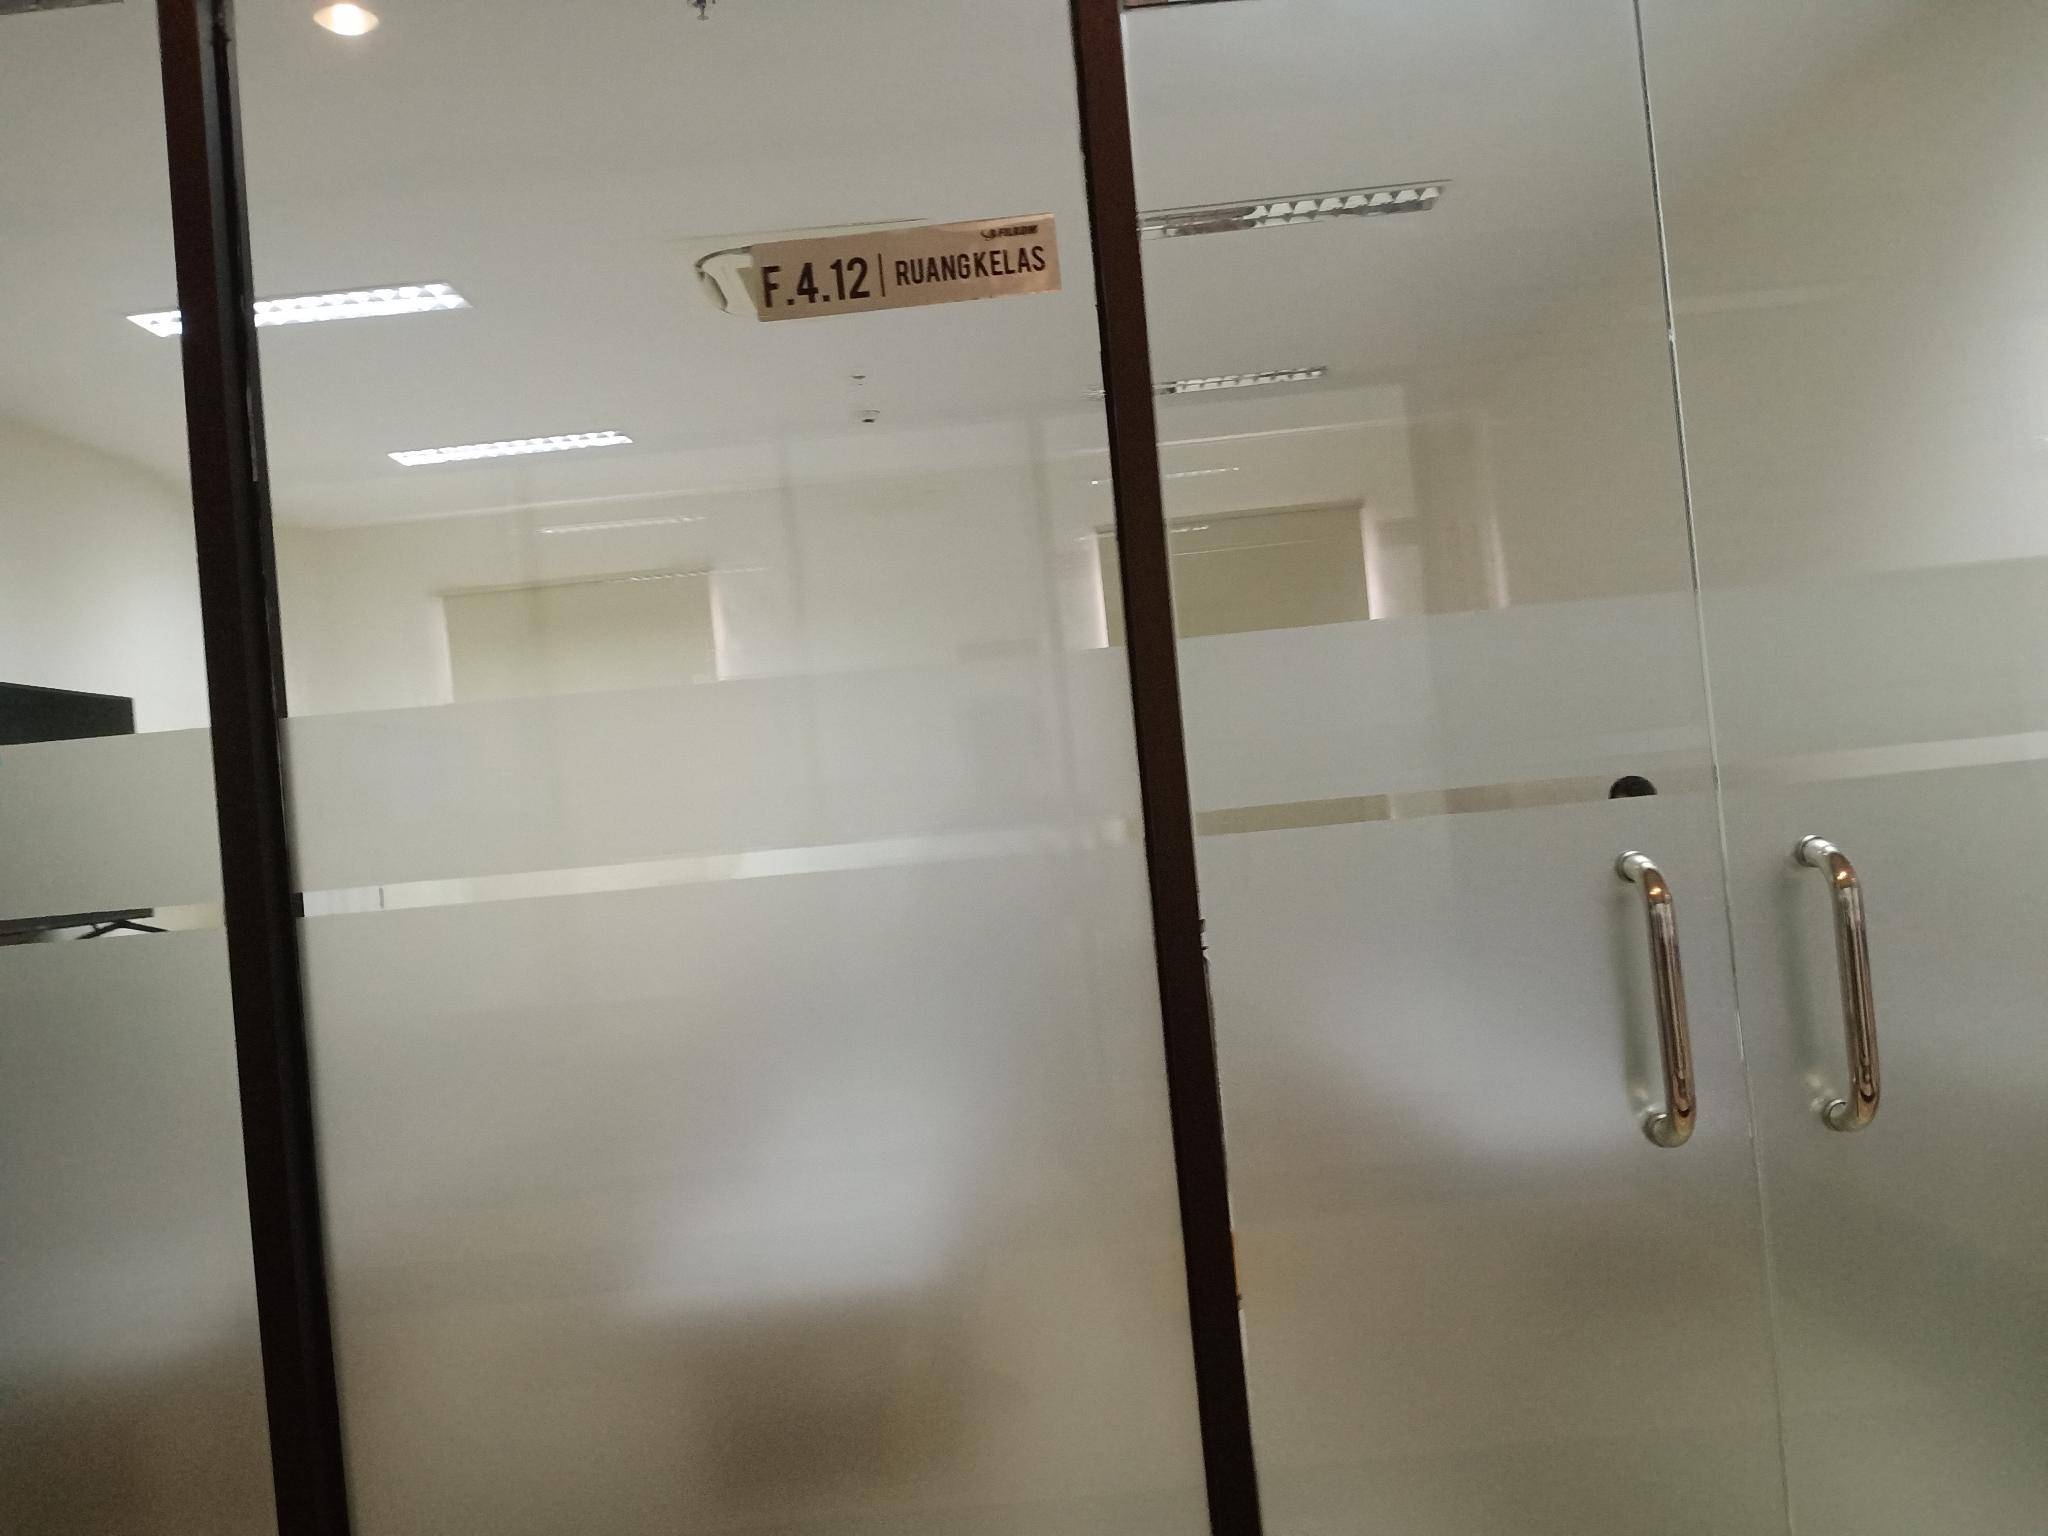plate: (751, 213, 1061, 323)
